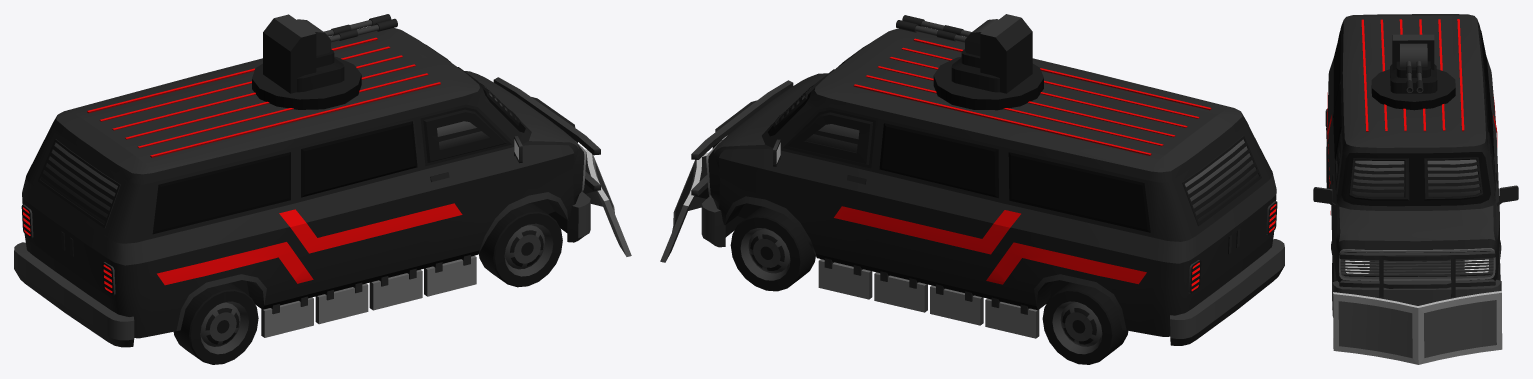
File: Car_018.glb
The picture shows the model from 3 angles, left to right: view 1: azimuth 30°, elevation 25°; view 2: azimuth 150°, elevation 25°; view 3: azimuth 270°, elevation 25°; orthographic projection. The views are drawn at different scales.
Parts seen in each view (by area): view 1: Car_018, wheel_1_Car_018_Wheel_1R, wheel_2_Car_018_Wheel_2R; view 2: Car_018, wheel_0_Car_018_Wheel_1L, wheel_3_Car_018_Wheel_3L; view 3: Car_018.
Boxes of the visible parts, bbox=[...] form: Car_018: bbox=[14, 14, 631, 347]; wheel_1_Car_018_Wheel_1R: bbox=[479, 203, 562, 287]; wheel_2_Car_018_Wheel_2R: bbox=[173, 282, 258, 364]; Car_018: bbox=[660, 14, 1284, 345]; wheel_0_Car_018_Wheel_1L: bbox=[730, 206, 815, 291]; wheel_3_Car_018_Wheel_3L: bbox=[1042, 282, 1128, 364]; Car_018: bbox=[1313, 14, 1518, 364].
Size of the model in its own units: 5.72 by 2.61 by 2.33.
2 materials, 2 textured.
